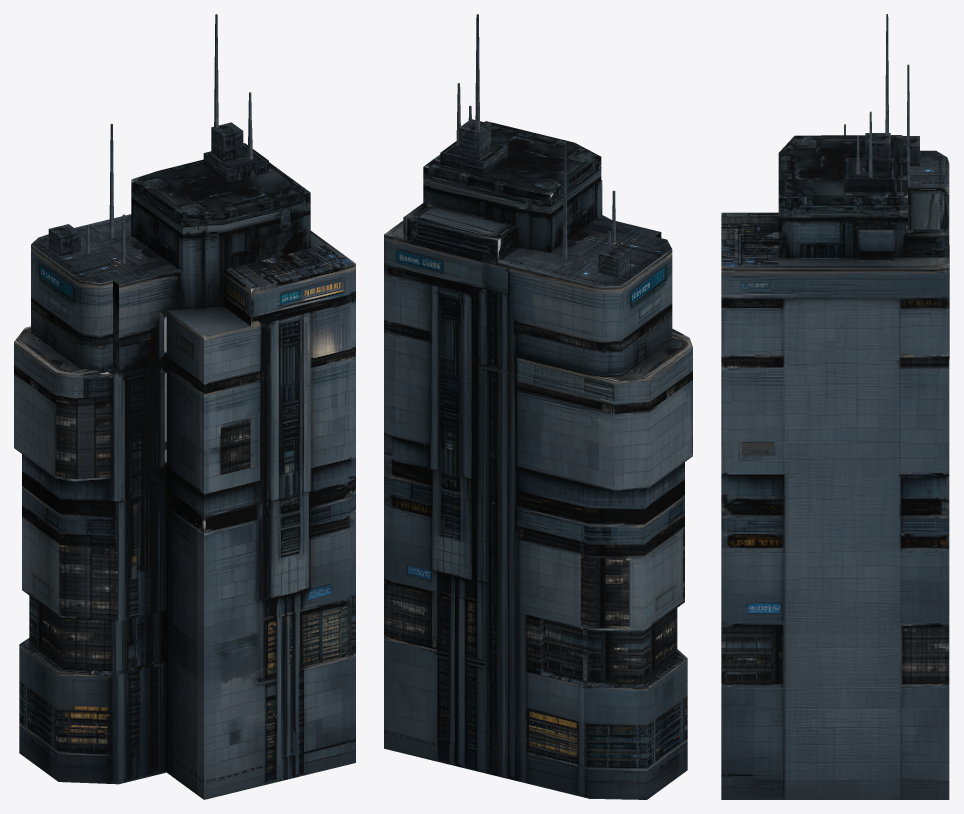
Rendered from CP_Skyscraper_02.fbx.
The picture shows the model from 3 angles, left to right: view 1: azimuth 30°, elevation 25°; view 2: azimuth 150°, elevation 25°; view 3: azimuth 270°, elevation 25°; orthographic projection. The views are drawn at different scales.
Visible parts, largest first — view 1: CP_Skyscraper_02; view 2: CP_Skyscraper_02; view 3: CP_Skyscraper_02.
Part boxes in pixels (box(x1,y1,x2,y2)): CP_Skyscraper_02: box(14, 14, 355, 799); CP_Skyscraper_02: box(384, 14, 692, 799); CP_Skyscraper_02: box(721, 14, 949, 799).
Bounding box in the file's own units: 3954 × 10833 × 2971.
